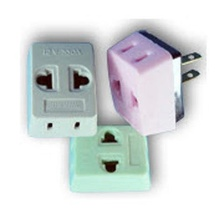three_eye_plug: (100, 20, 204, 140), (19, 35, 98, 146), (58, 112, 158, 199)
